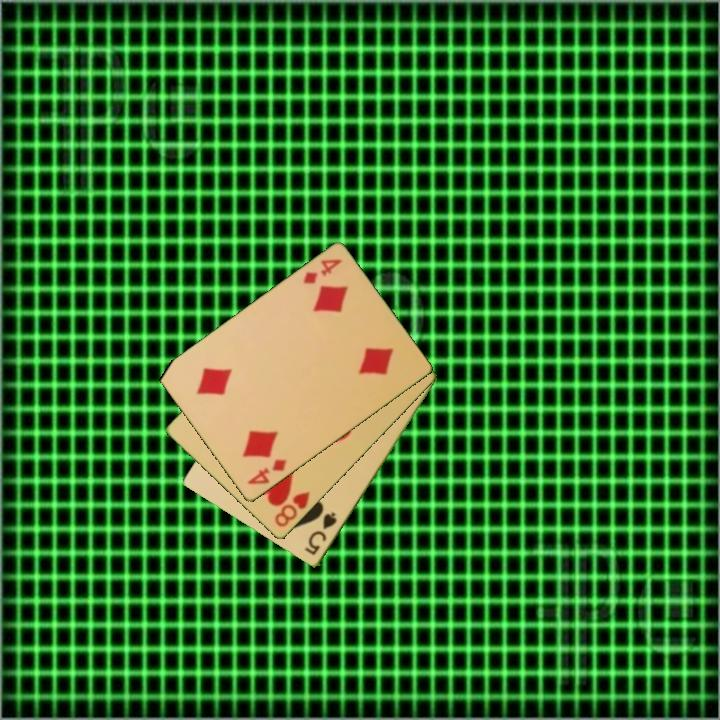4d: (244, 456, 290, 488), (299, 255, 345, 287)
5s: (301, 509, 340, 559)
8h: (271, 488, 313, 530)
